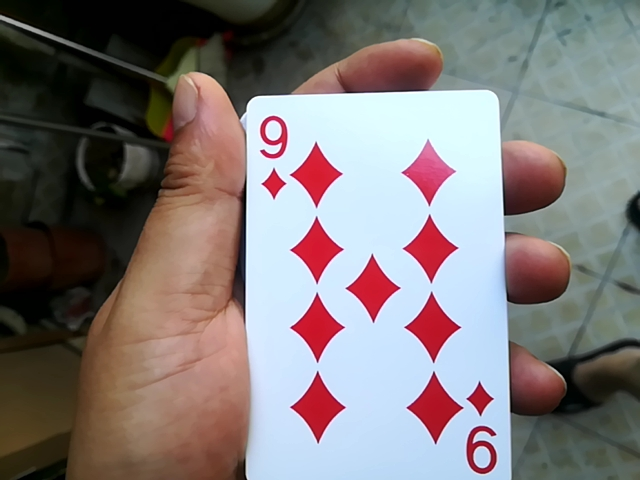fk 9: (208, 85, 489, 477)
